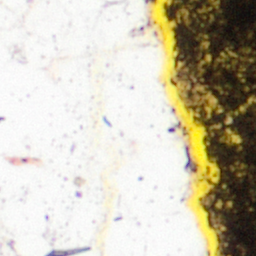cement_matrix: (166, 0, 255, 255), (206, 97, 214, 107), (230, 135, 235, 139)
cracks: (147, 0, 221, 255)
gravel_crushed_stones: (0, 0, 208, 255), (207, 98, 213, 106), (231, 136, 234, 138)
